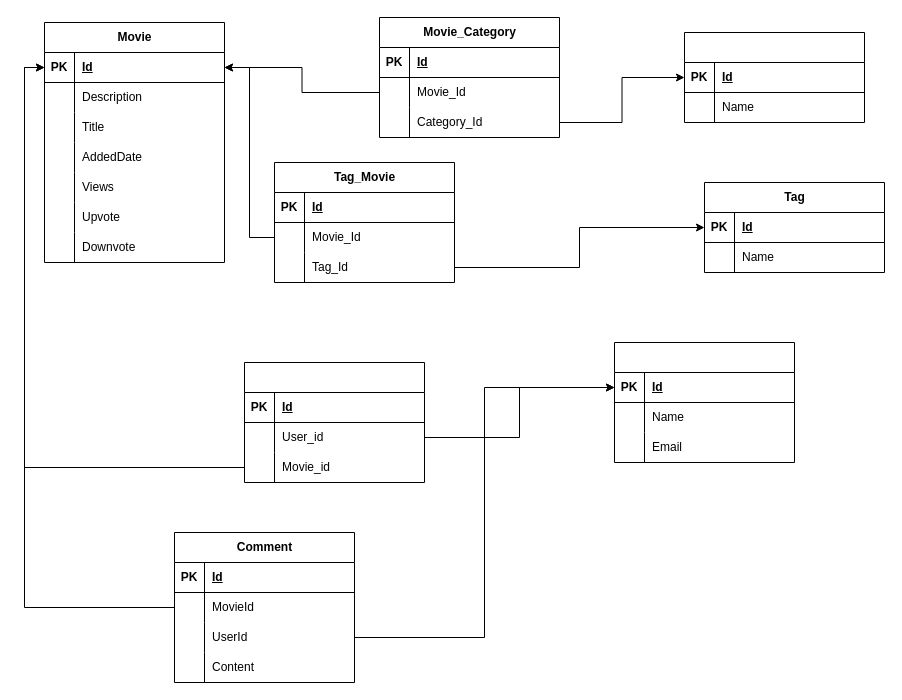
Image size: 902x700. Some labels were removed from this diagram. The shapes that lost their labels are listed below. From the top down, each one's box as (x1, y1, x2, y2) in pixels, then its label:
(684, 32, 864, 122): Category
(244, 362, 424, 482): Favorite_Movie
(614, 342, 794, 462): User
